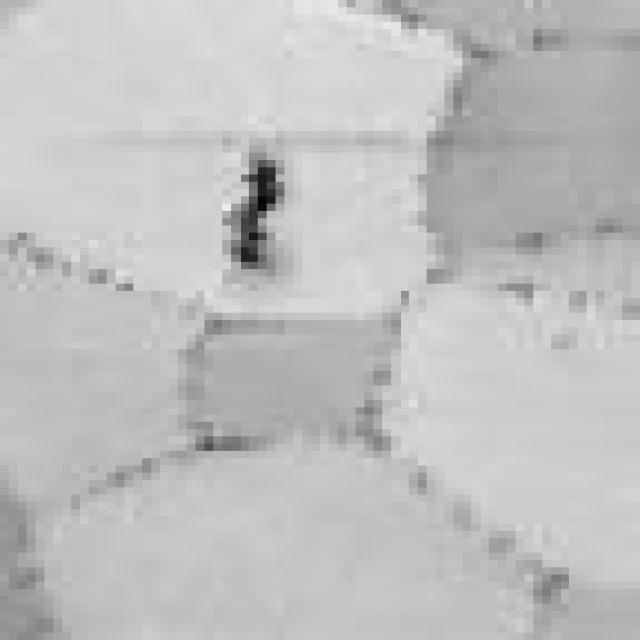good_void: (204, 154, 292, 275)
